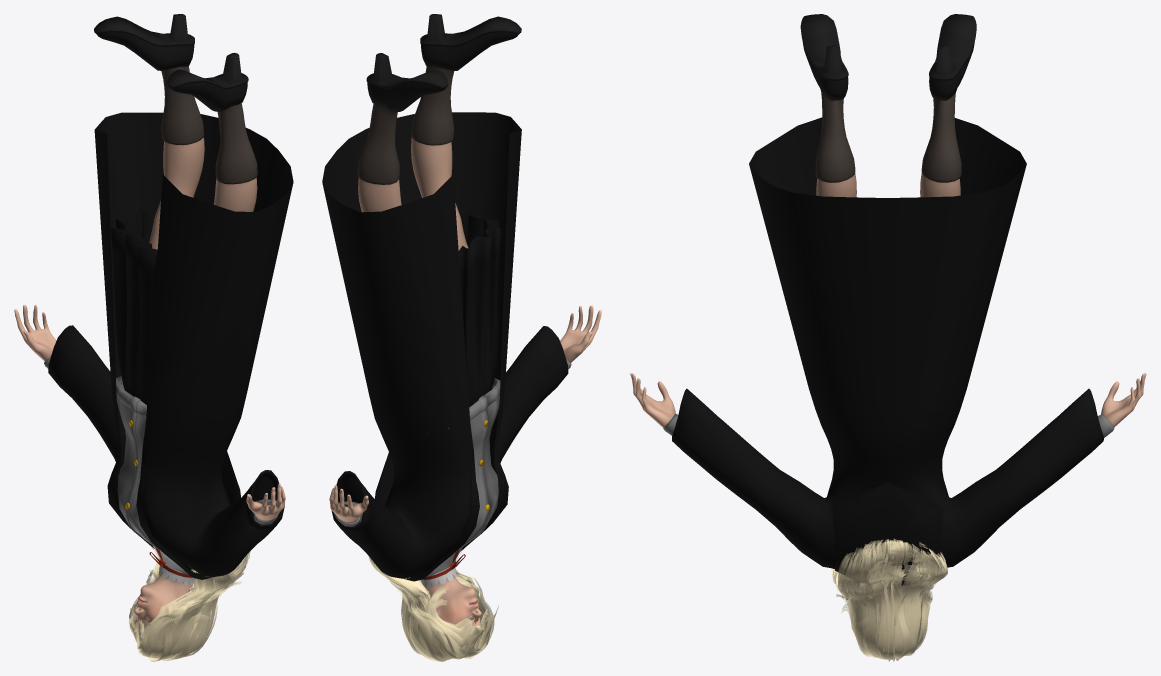
The model's file is sakasama_woman.glb.
3 renders of one model, left to right at view 1: azimuth 30°, elevation 25°; view 2: azimuth 150°, elevation 25°; view 3: azimuth 270°, elevation 25°, orthographic. The views are drawn at different scales.
Parts seen in each view (by area): view 1: Outfit, Female_Human, Shoes, Hair, Stocking; view 2: Outfit, Female_Human, Shoes, Hair, Stocking; view 3: Outfit, Hair, Shoes, Stocking, Female_Human.
Boxes of the visible parts, bbox=[...] form: Outfit: bbox=[44, 112, 293, 585]; Female_Human: bbox=[14, 137, 285, 645]; Shoes: bbox=[94, 14, 248, 111]; Hair: bbox=[129, 551, 250, 661]; Stocking: bbox=[161, 66, 257, 184]; Outfit: bbox=[322, 112, 571, 587]; Female_Human: bbox=[329, 138, 601, 648]; Shoes: bbox=[366, 14, 521, 112]; Hair: bbox=[368, 556, 498, 661]; Stocking: bbox=[357, 66, 454, 184]; Outfit: bbox=[663, 117, 1114, 585]; Hair: bbox=[830, 539, 947, 661]; Shoes: bbox=[800, 14, 976, 100]; Stocking: bbox=[815, 91, 961, 182]; Female_Human: bbox=[630, 172, 1146, 428].
Size of the model in its own units: 0.3833 by 1.58 by 1.18.
2 materials, 2 textured.
